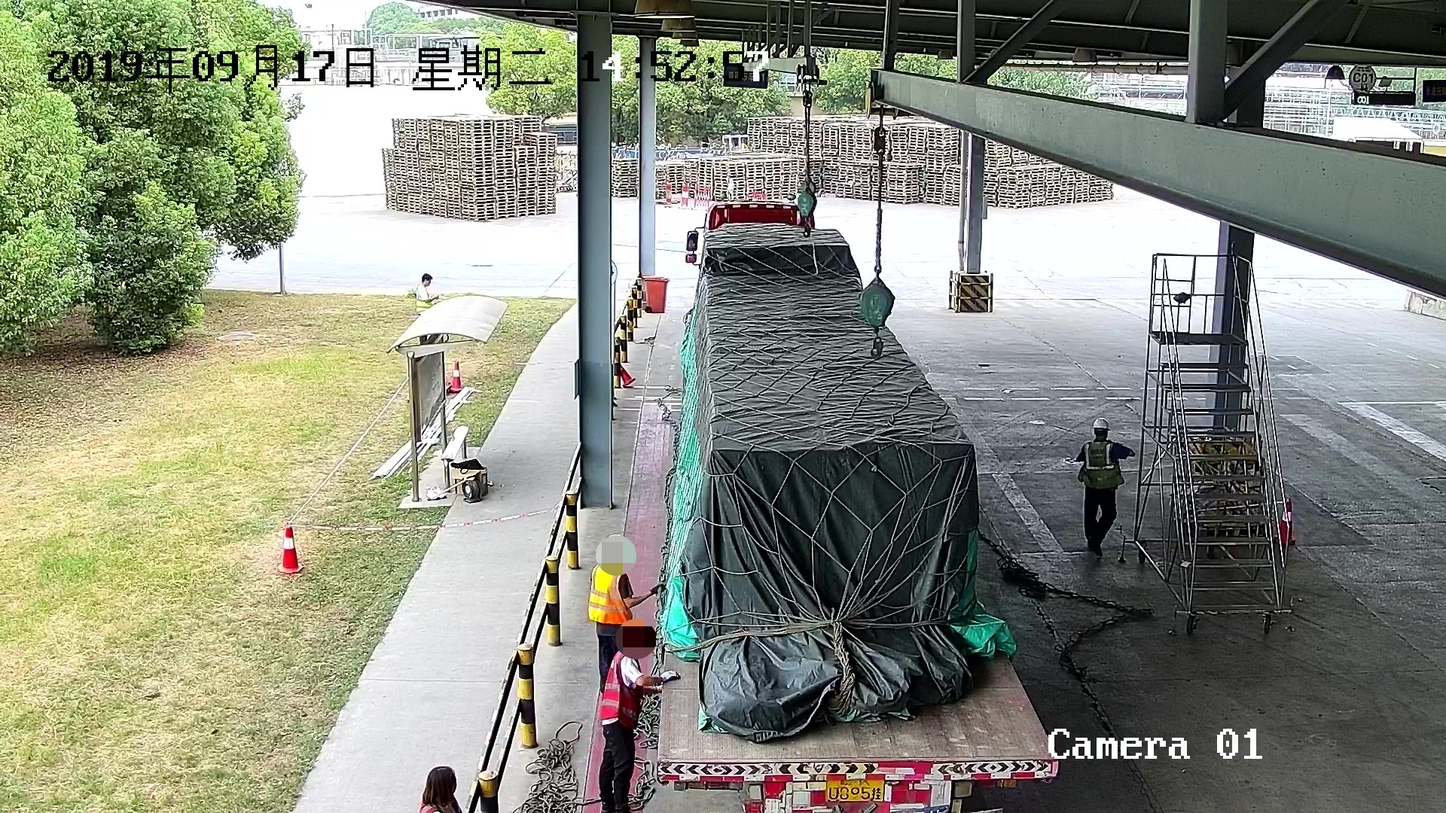hat: (602, 533, 630, 567), (1092, 418, 1110, 441)
head: (425, 766, 456, 800), (622, 621, 648, 654), (422, 273, 432, 287)
